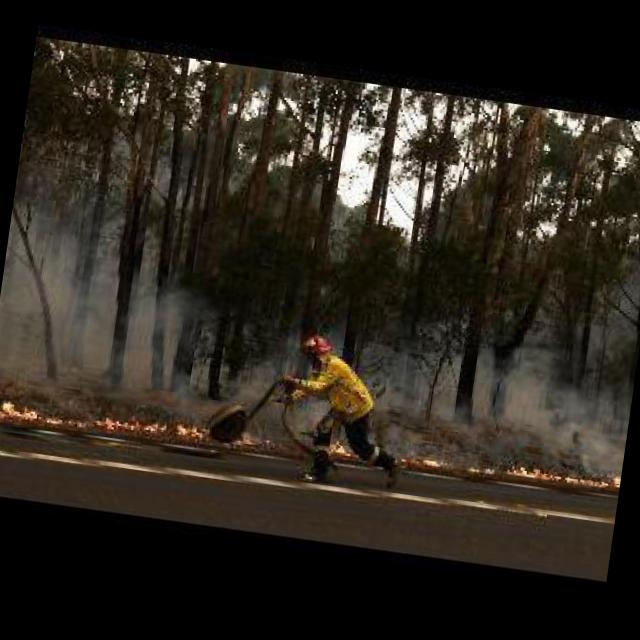fire: (507, 457, 621, 488), (0, 395, 67, 422), (102, 411, 170, 433), (399, 450, 444, 467), (176, 419, 206, 436), (329, 442, 360, 456), (468, 464, 495, 474)
smoke: (0, 200, 238, 420), (444, 342, 636, 472)
